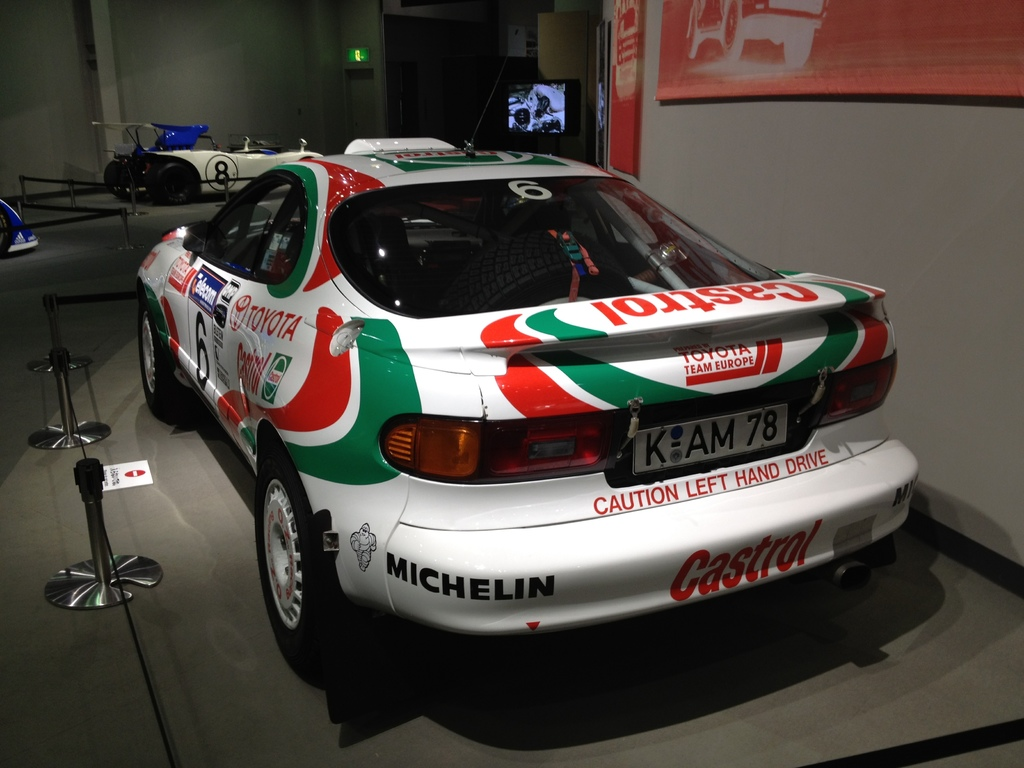Car: (128, 74, 921, 684), (90, 117, 321, 206), (0, 197, 35, 256)
